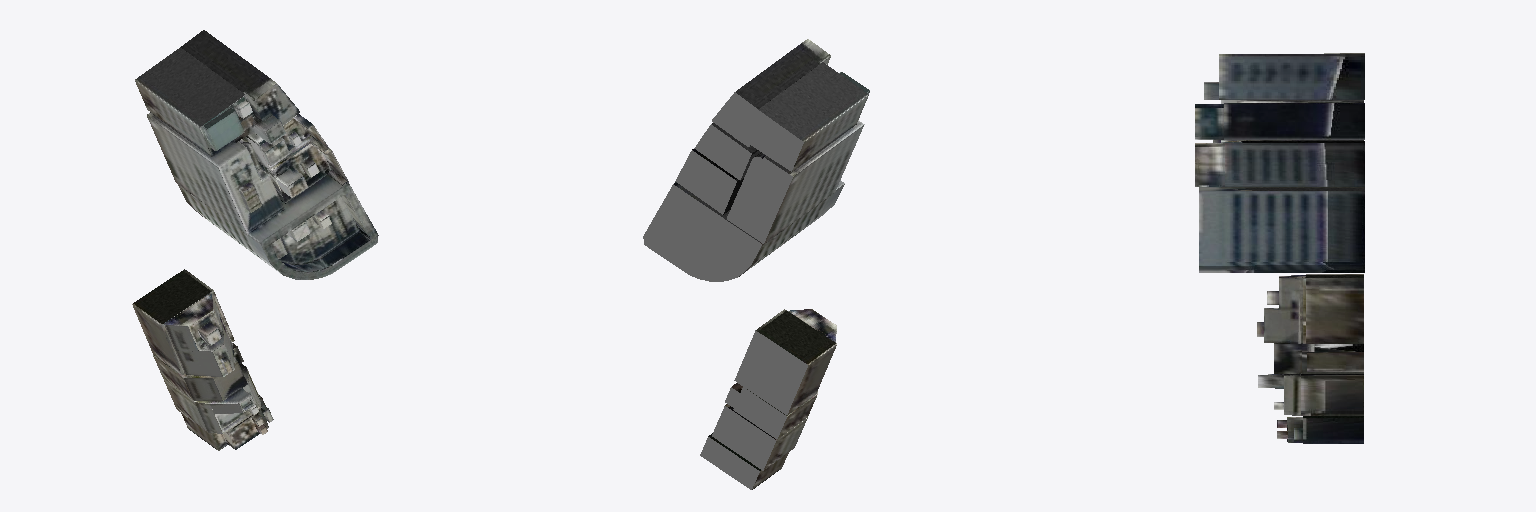
The picture shows the model from 3 angles: view 1: azimuth 30°, elevation 25°; view 2: azimuth 150°, elevation 25°; view 3: azimuth 270°, elevation 25°; orthographic projection.
Bounding box in the file's own units: 40.44 × 92.79 × 36.36.
Materials: 9 (9 with a texture image).